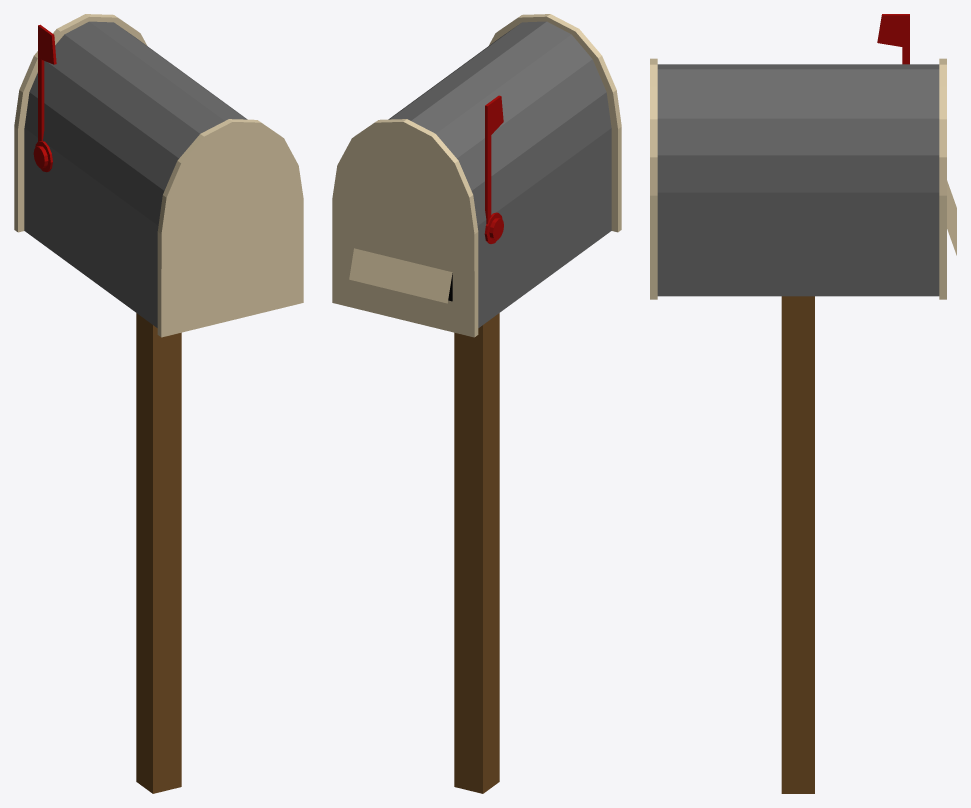
File: Boite_au_lettres_gamejam 1.fbx
3 views of the same model, side by side, from view 1: azimuth 30°, elevation 25°; view 2: azimuth 150°, elevation 25°; view 3: azimuth 270°, elevation 25° (orthographic).
Parts seen in each view (by area): view 1: Cylinder.001; view 2: Cylinder.001; view 3: Cylinder.001.
Part boxes in pixels (x1=…): Cylinder.001: x1=14, y1=14, x2=303, y2=793; Cylinder.001: x1=332, y1=14, x2=621, y2=793; Cylinder.001: x1=650, y1=14, x2=956, y2=793.
Size of the model in its own units: 20 by 98.65 by 37.05.
